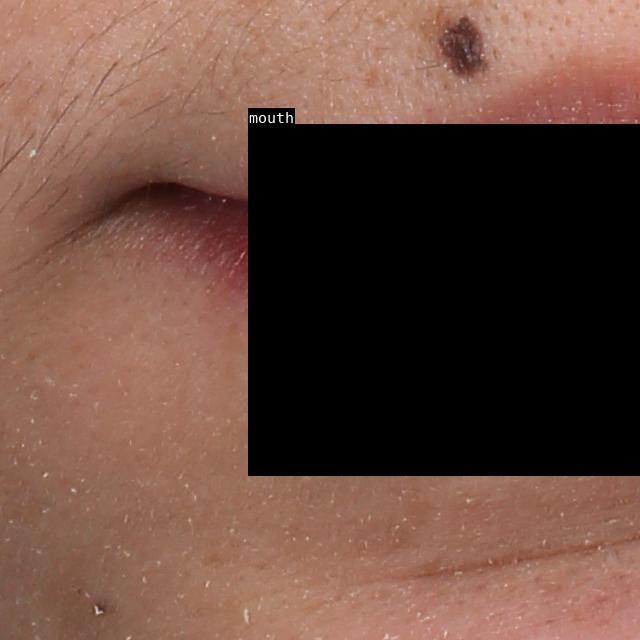nevus: (409, 4, 494, 84)
